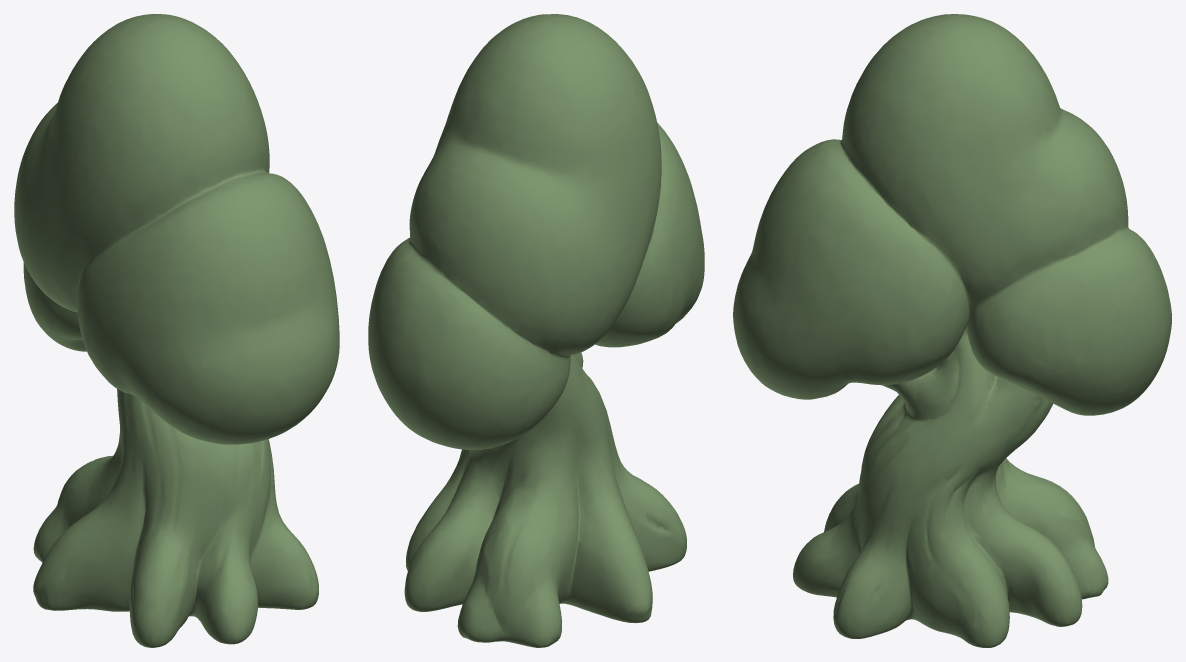
File: cloud-bonsai.glb
3 renders of one model, left to right at view 1: azimuth 30°, elevation 25°; view 2: azimuth 150°, elevation 25°; view 3: azimuth 270°, elevation 25°, orthographic.
Visible parts, largest first — view 1: tripo_printable_source; view 2: tripo_printable_source; view 3: tripo_printable_source.
Part boxes in pixels (x1,y1,x2,y2): tripo_printable_source: (14, 14, 339, 647); tripo_printable_source: (368, 14, 704, 647); tripo_printable_source: (733, 14, 1171, 647).
Size of the model in its own units: 43.66 by 100 by 70.
